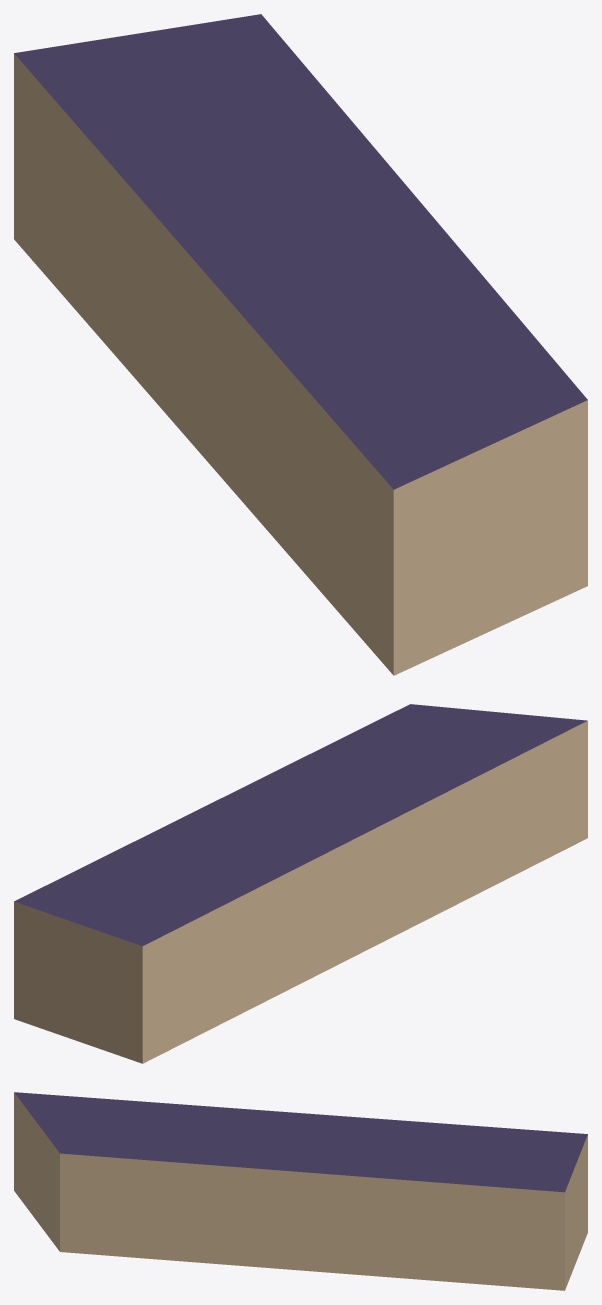
3 views of the same model, one above another, from view 1: azimuth 30°, elevation 25°; view 2: azimuth 150°, elevation 25°; view 3: azimuth 270°, elevation 25° (orthographic). The views are drawn at different scales.
Visible parts, largest first — view 1: campus/b-021-0; view 2: campus/b-021-0; view 3: campus/b-021-0.
Part boxes in pixels (left/top/right/bottom): campus/b-021-0: left=14, top=14, right=587, bottom=675; campus/b-021-0: left=14, top=704, right=587, bottom=1063; campus/b-021-0: left=14, top=1092, right=587, bottom=1290.
Size of the model in its own units: 6.76 by 3.1 by 16.38.
